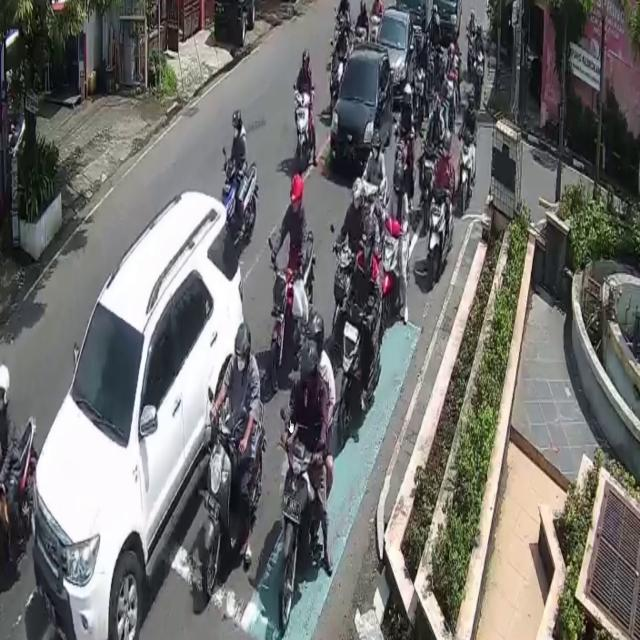car: (32, 190, 244, 639), (330, 45, 392, 174), (378, 8, 416, 106)
motorbike: (202, 397, 263, 608), (270, 231, 315, 392), (280, 441, 316, 630), (340, 301, 363, 433), (224, 158, 256, 241), (382, 211, 401, 323), (429, 188, 448, 288), (292, 90, 312, 167), (460, 130, 475, 218)
